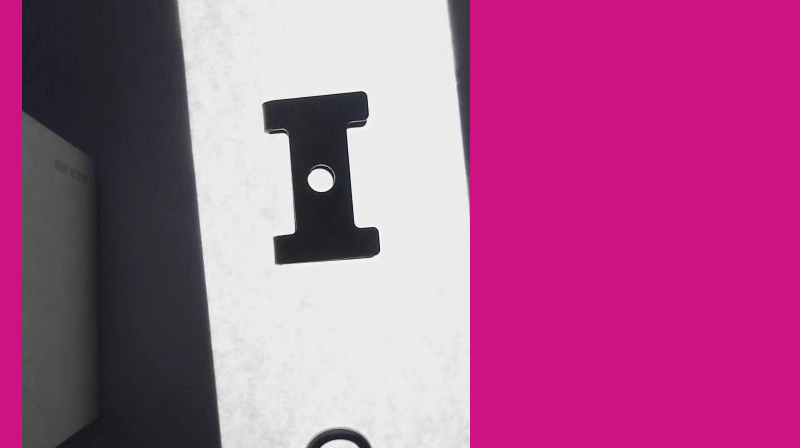O001: (268, 428, 374, 447)
O002: (261, 89, 380, 267)
